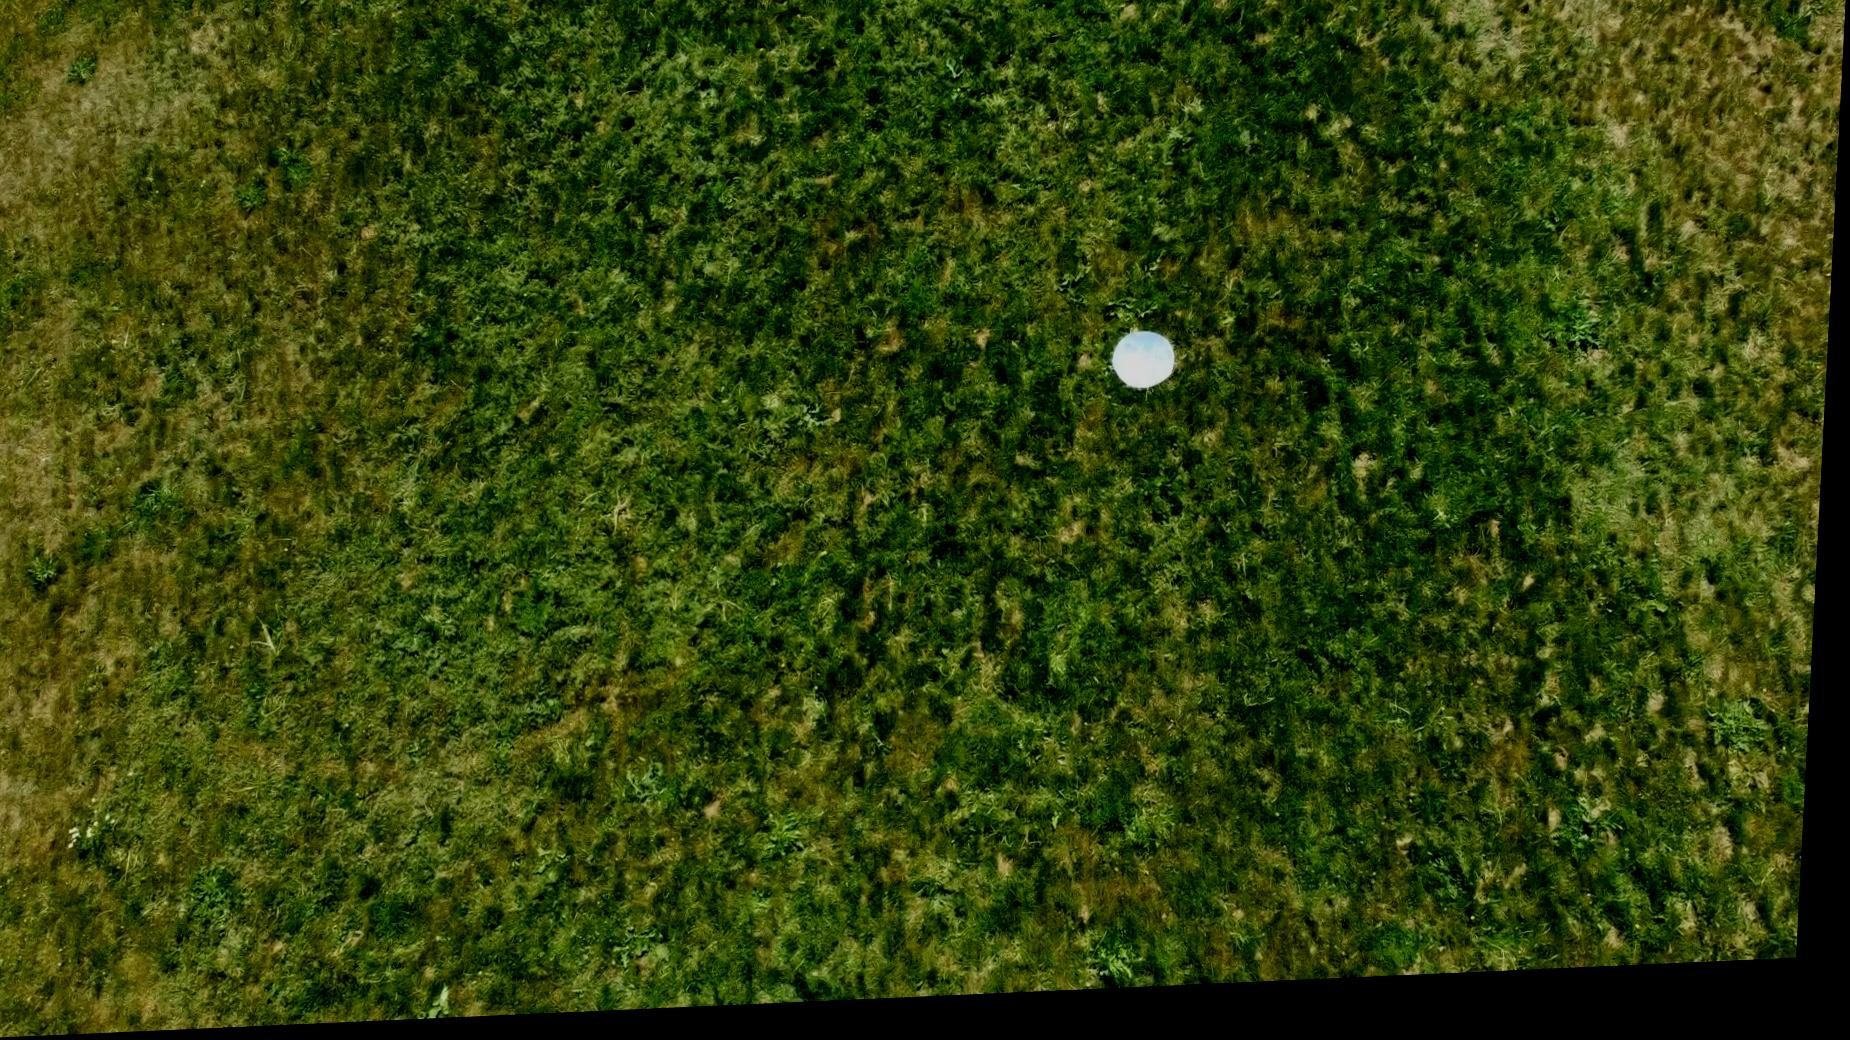Blue: (1111, 338, 1183, 404)
